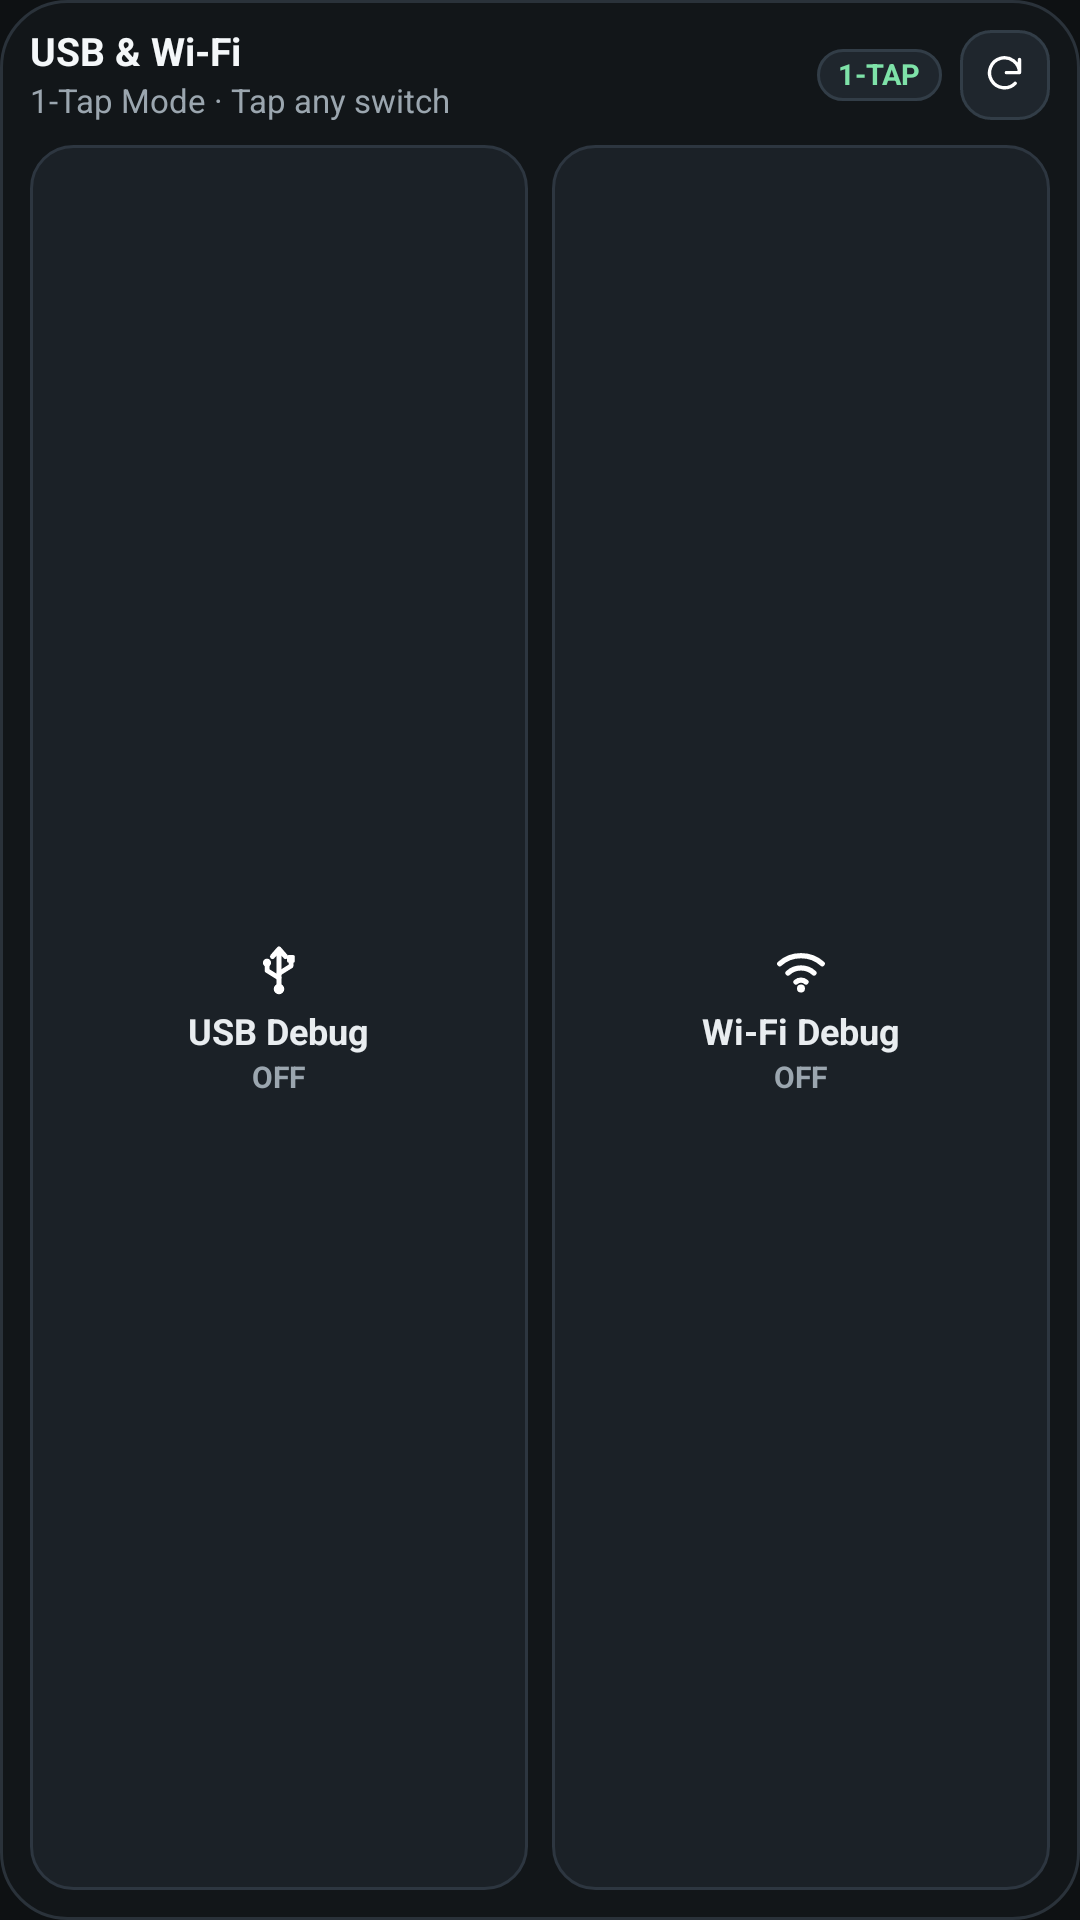

Icon click points for this 1080×1920 phone screenshot, format [x,y]:
Refresh status: [1004,73]
